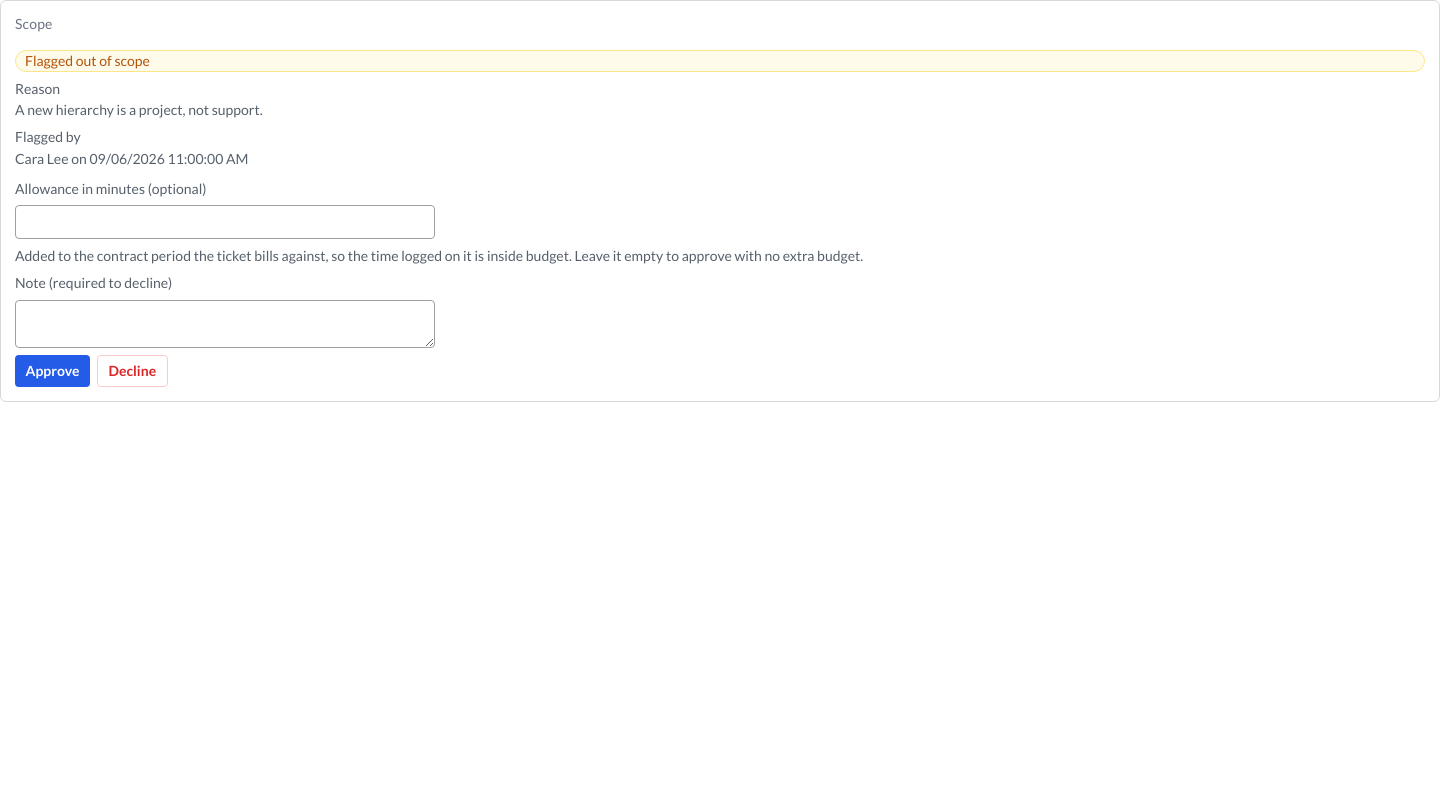
Test: ScopeCard › words the refusals the decision route answers with
Expected: the element with test id "scope-decision" is shown, [15,180,863,387]
Type "480" into the field labelled "Allowance in minutes (optional)".
click(225, 222); type("480")  # box [15,205,435,239]
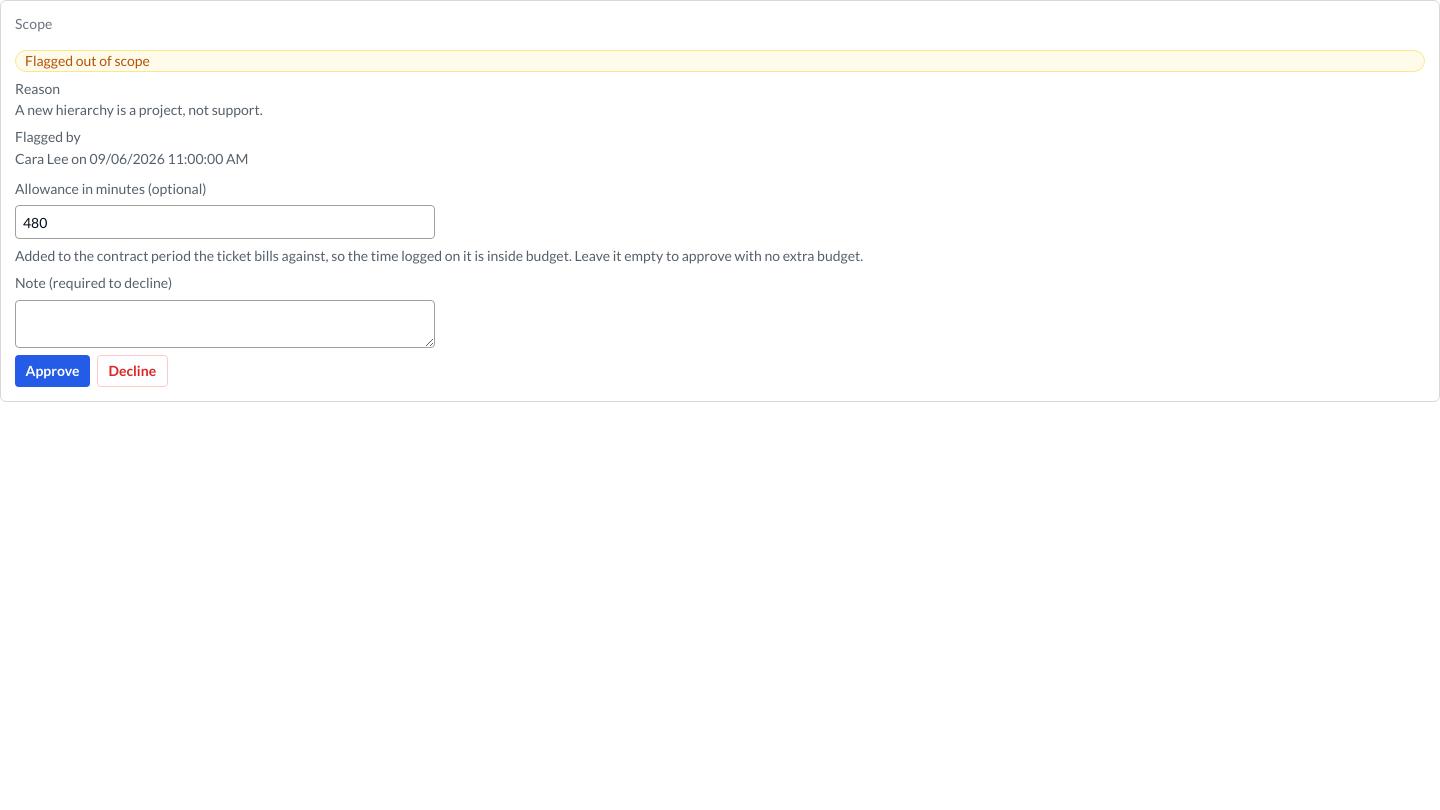
Click the button "Approve".
click(52, 371)  # box [15,355,90,387]
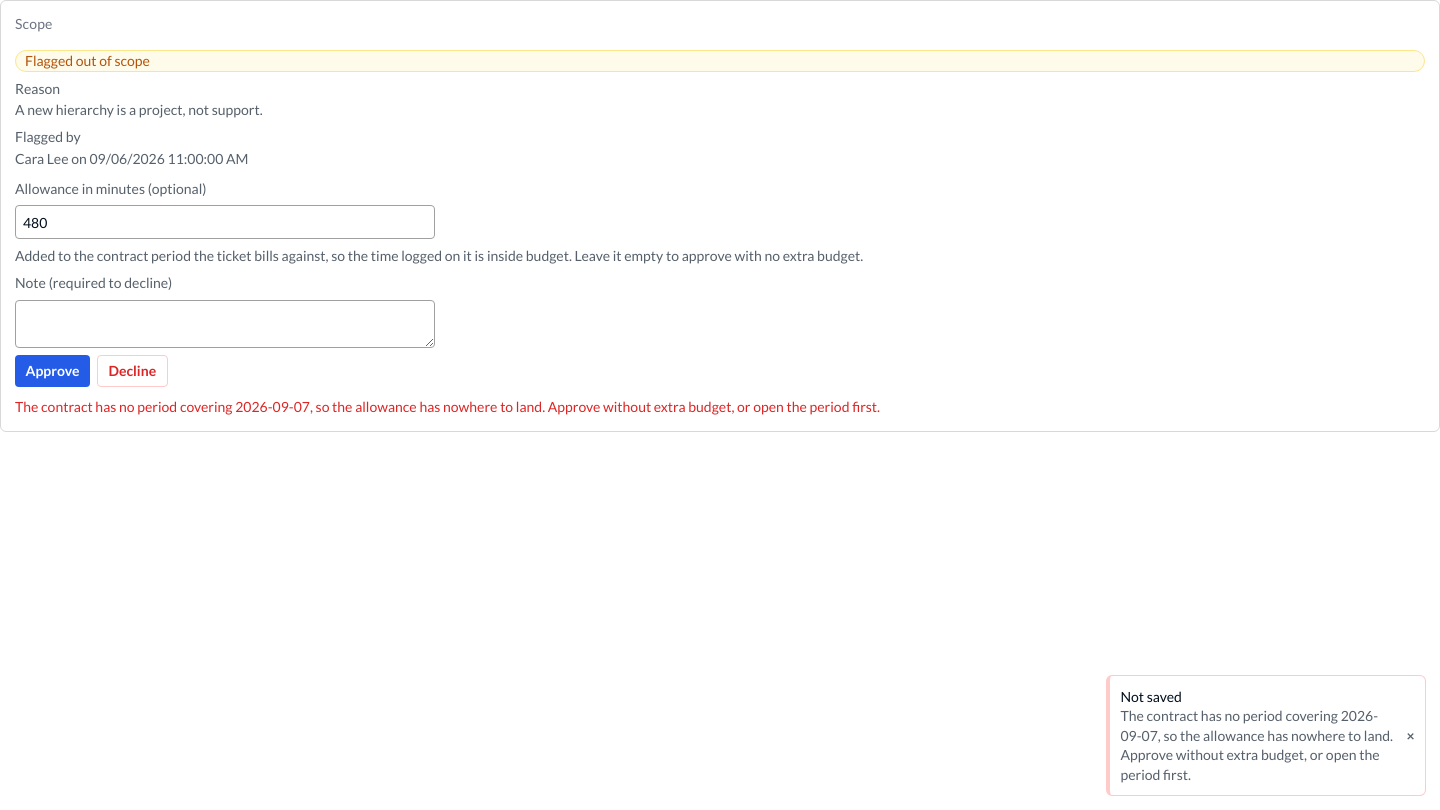
Expected: the 1st message shows "no period covering 2026-09-07", [15,398,880,415]
